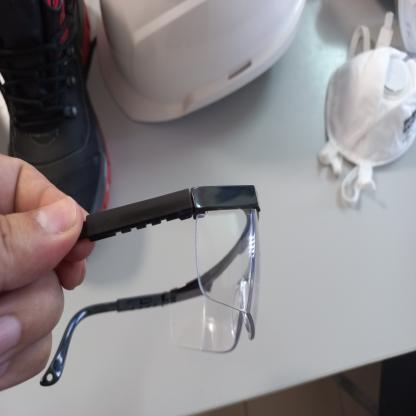goggles: (71, 182, 265, 390)
